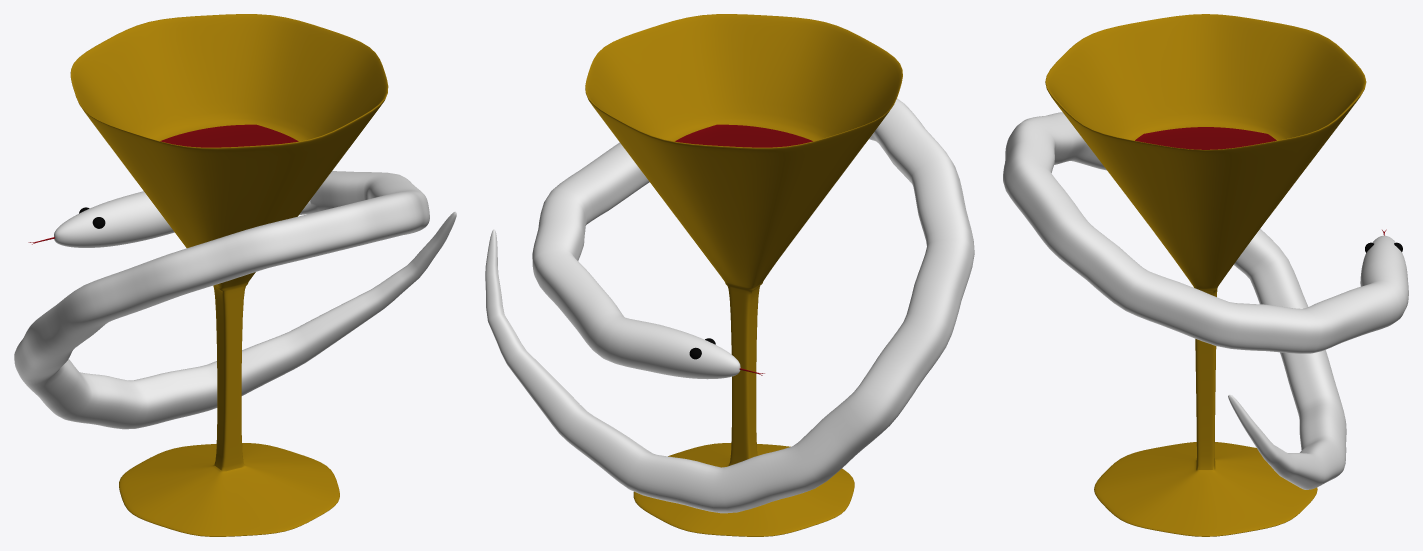
File: SnakeWine.fbx
3 views of the same model, side by side, from view 1: azimuth 30°, elevation 25°; view 2: azimuth 150°, elevation 25°; view 3: azimuth 270°, elevation 25° (orthographic).
Parts seen in each view (by area): view 1: Wine, Snake.004; view 2: Wine, Snake.004; view 3: Wine, Snake.004.
Boxes of the visible parts, x1,y1,x2,y2 form: Wine: (70, 14, 388, 536); Snake.004: (14, 171, 456, 429); Wine: (585, 14, 902, 536); Snake.004: (485, 98, 974, 513); Wine: (1045, 14, 1366, 536); Snake.004: (1003, 112, 1408, 489).
Bounding box in the file's own units: 1.21 × 1.08 × 0.9737.
